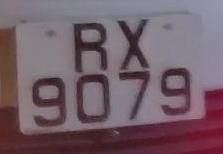0: (69, 69, 118, 130)
7: (113, 63, 161, 128)
9: (25, 68, 73, 134), (152, 60, 198, 120)
R: (64, 16, 117, 78)
X: (112, 12, 158, 73)
